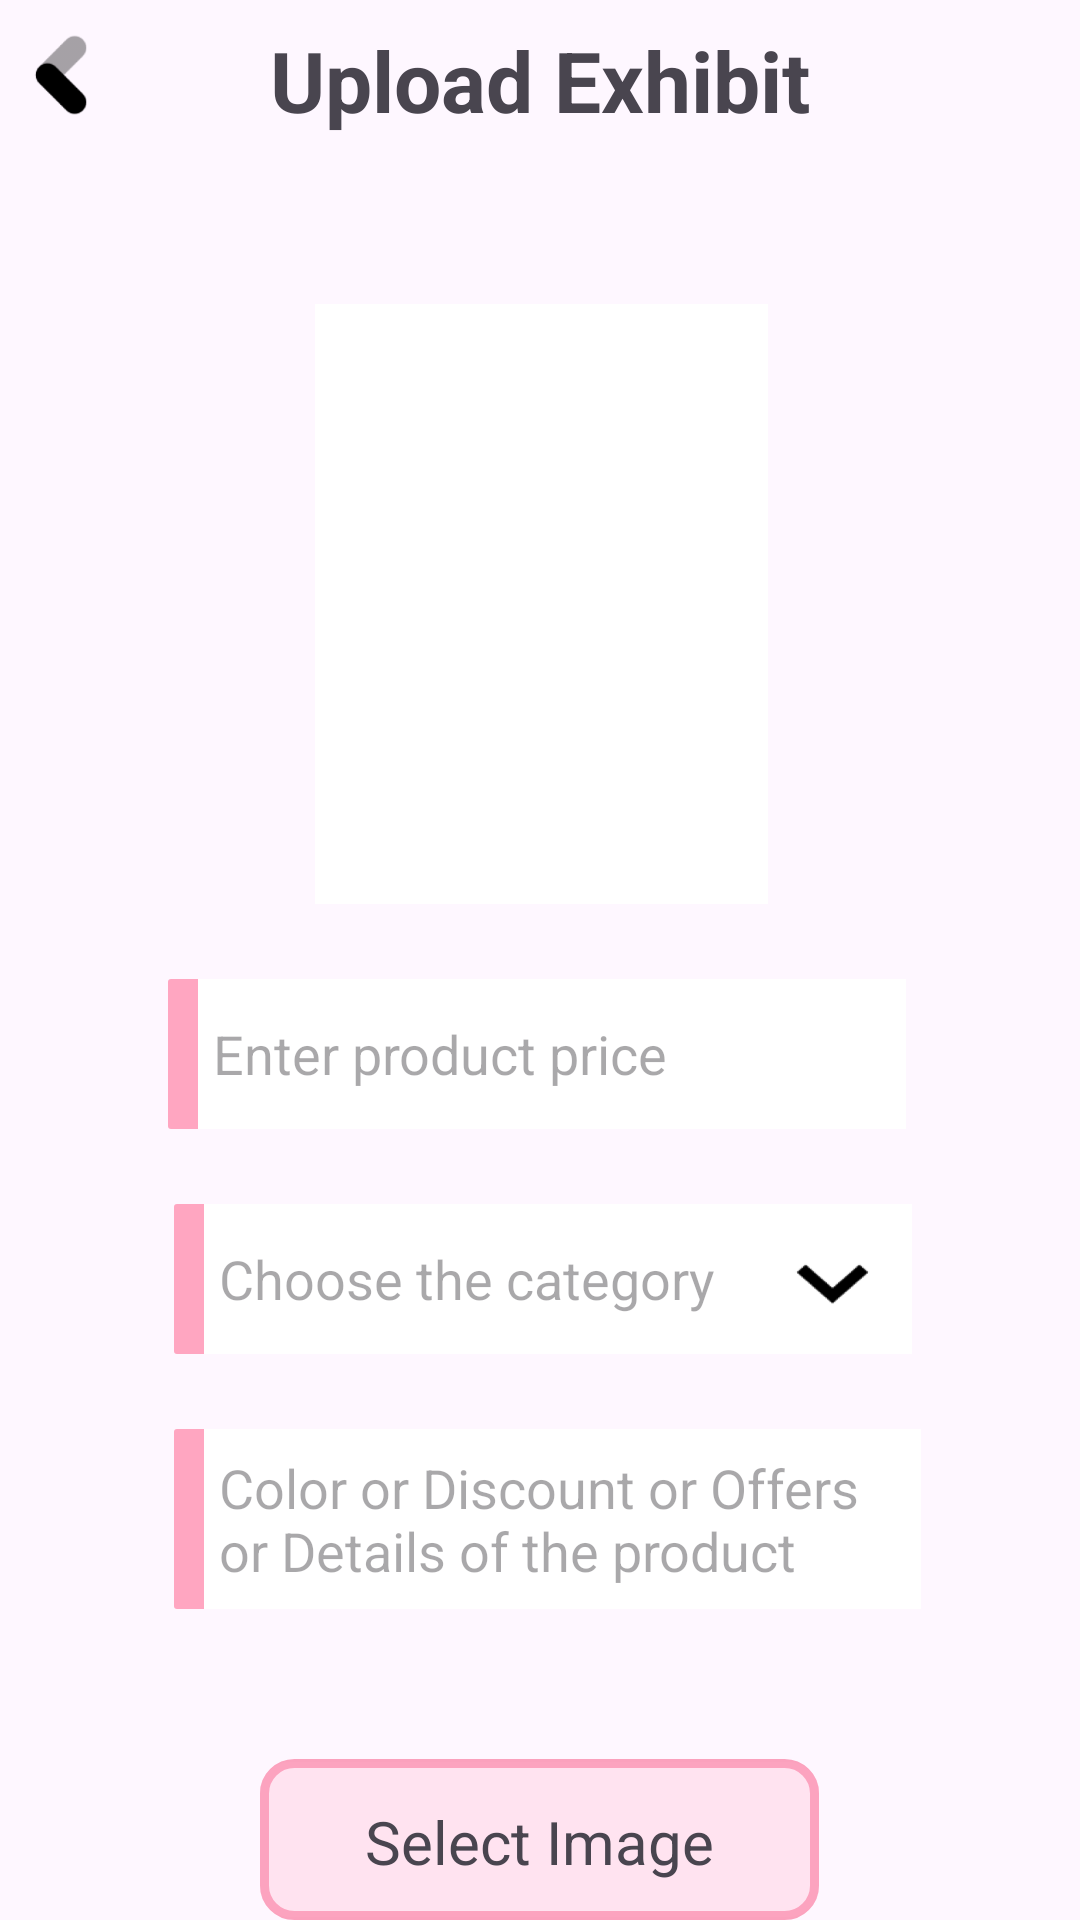

Where to tap for icons on this 1080 x 1920 app screen, as point (x, y):
backbtn: point (61, 75)
